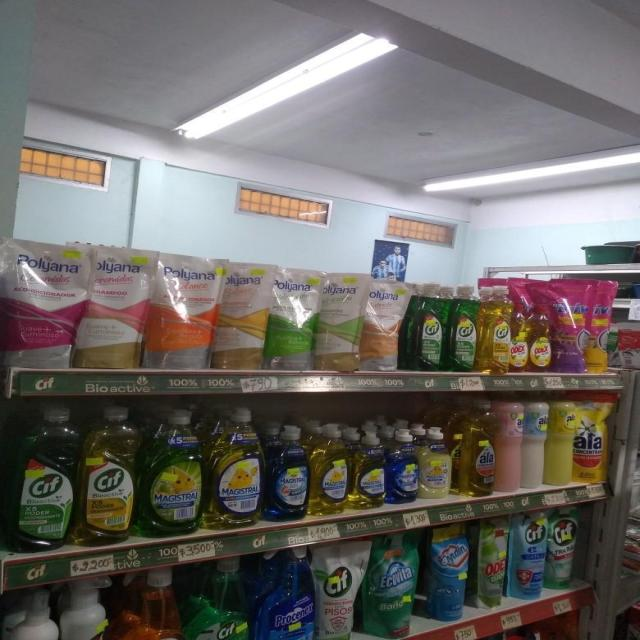ala_crem_amarillo: (547, 389, 574, 486)
ala_crem_blanco: (2, 598, 67, 640), (522, 390, 546, 490)
ala_crem_rosado: (497, 392, 522, 494)
ala_sachet_amarillo: (574, 390, 610, 484)
cif_conc_bot_amarilla: (80, 405, 136, 545), (479, 284, 510, 374)
cif_conc_botella_verde: (8, 404, 76, 550), (411, 282, 446, 372), (448, 284, 478, 373)
magistral_con_amarillo: (206, 407, 263, 530), (310, 423, 349, 516), (351, 428, 386, 510)
magistral_con_azul: (266, 424, 308, 522), (386, 426, 418, 504)
magistral_con_crema: (419, 426, 452, 499)
